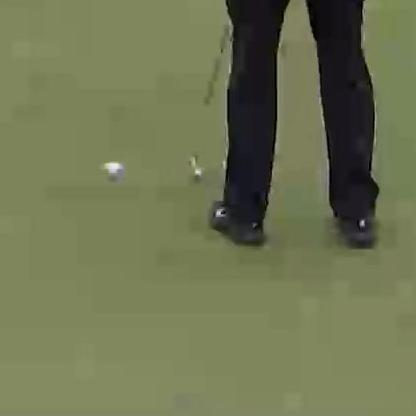golfball: (99, 159, 122, 181)
